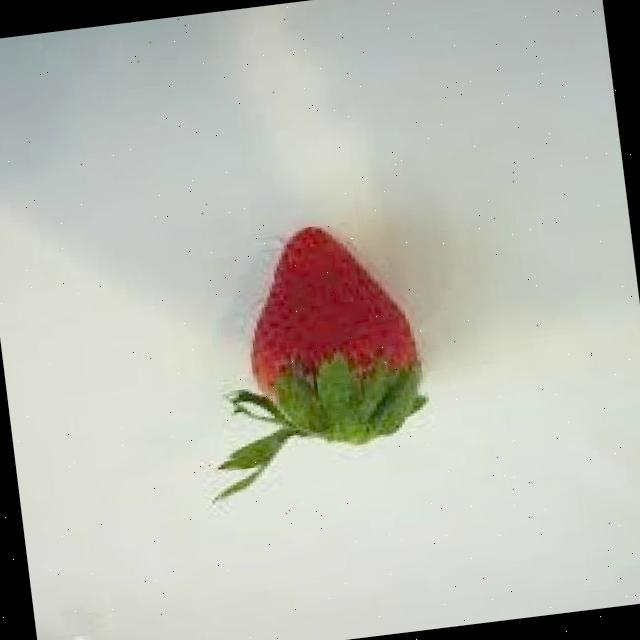strawberry: (235, 214, 421, 406)
